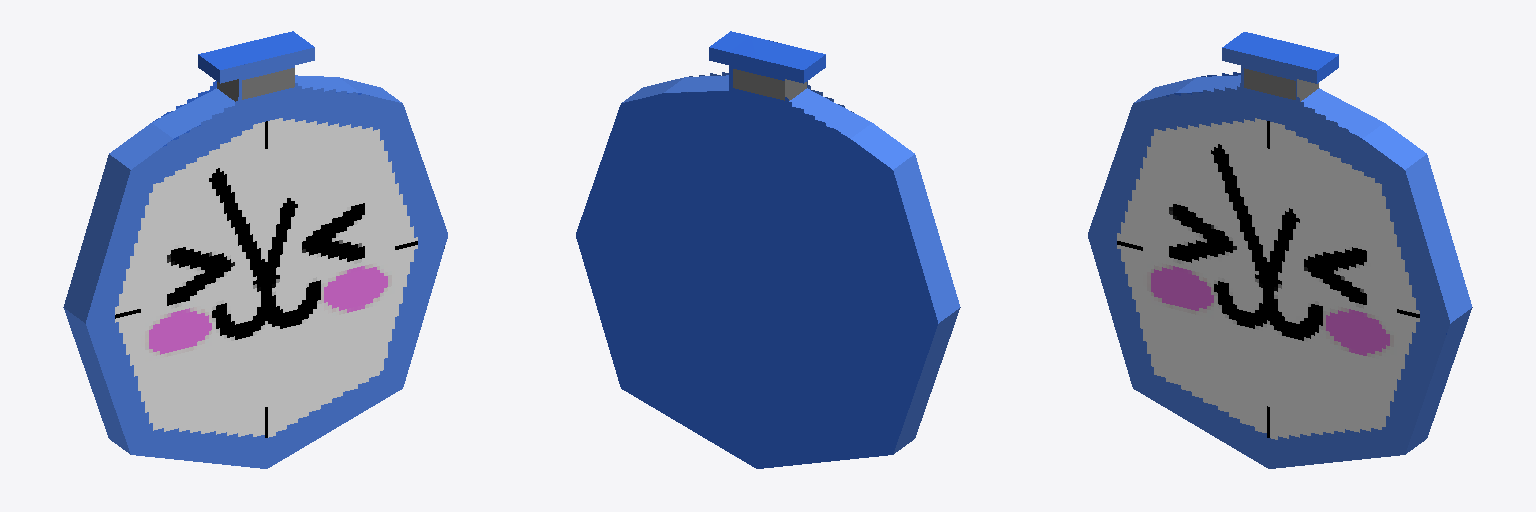
The picture shows the model from 3 angles: view 1: azimuth 30°, elevation 25°; view 2: azimuth 150°, elevation 25°; view 3: azimuth 330°, elevation 25°; orthographic projection.
Parts seen in each view (by area): view 1: Cube1; view 2: Cube1; view 3: Cube1.
Part boxes in pixels (x1,y1,x2,y2): Cube1: (63, 31, 447, 468); Cube1: (576, 31, 960, 468); Cube1: (1088, 32, 1472, 468).
Bounding box in the file's own units: 2 × 2.16 × 0.2104.
Materials: 1 (1 with a texture image).